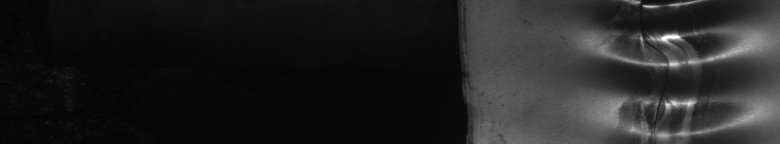ke: (600, 4, 747, 136)
